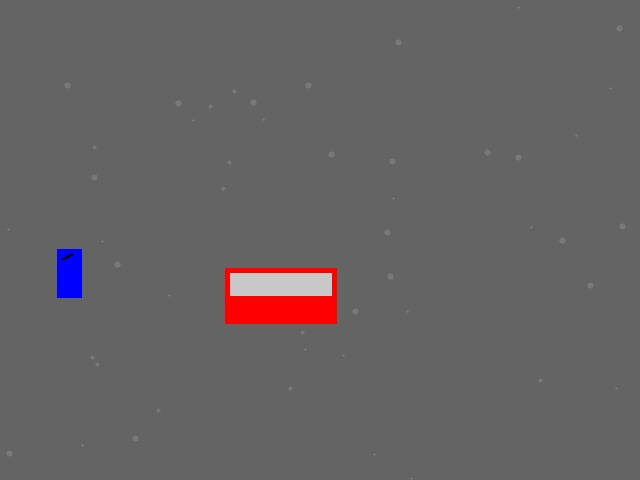car: (225, 268, 336, 323)
motorcycle: (57, 249, 81, 297)
